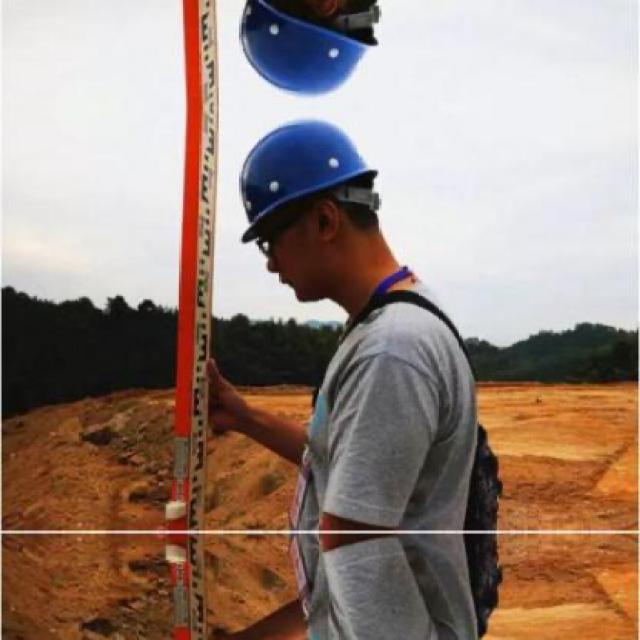helmet: (223, 116, 402, 314), (222, 0, 402, 102)
